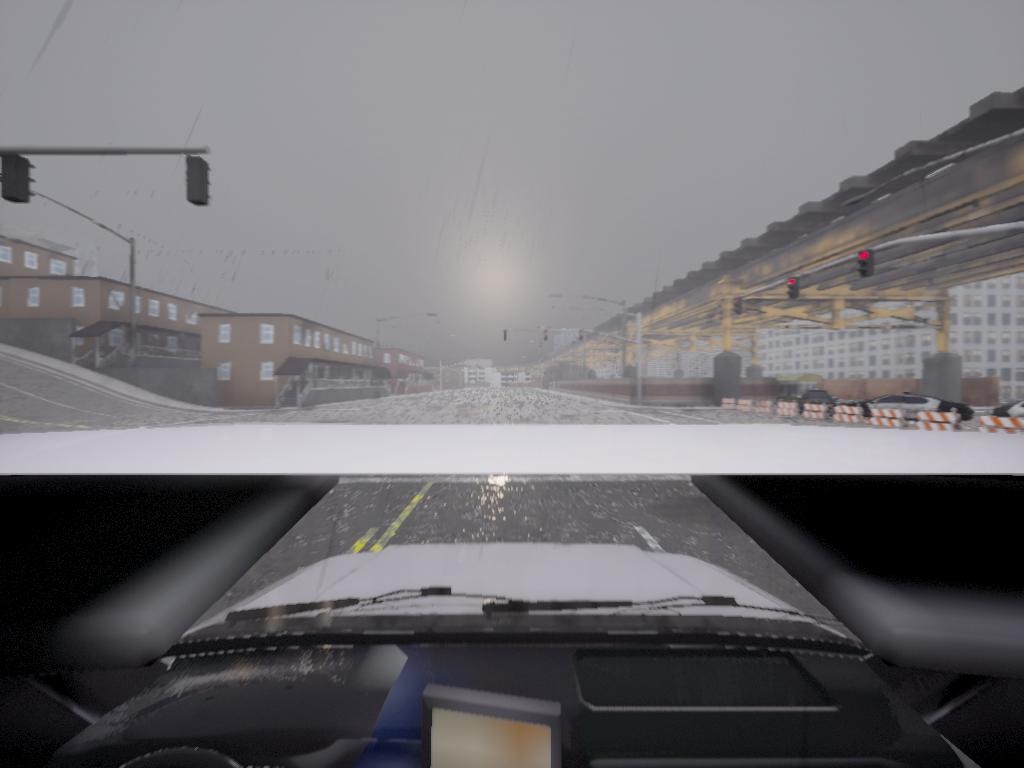traffic_light: (3, 154, 37, 203), (187, 158, 211, 210), (860, 253, 876, 278), (787, 279, 799, 302), (733, 296, 744, 316), (504, 329, 509, 344), (579, 329, 584, 343), (544, 331, 549, 345)
